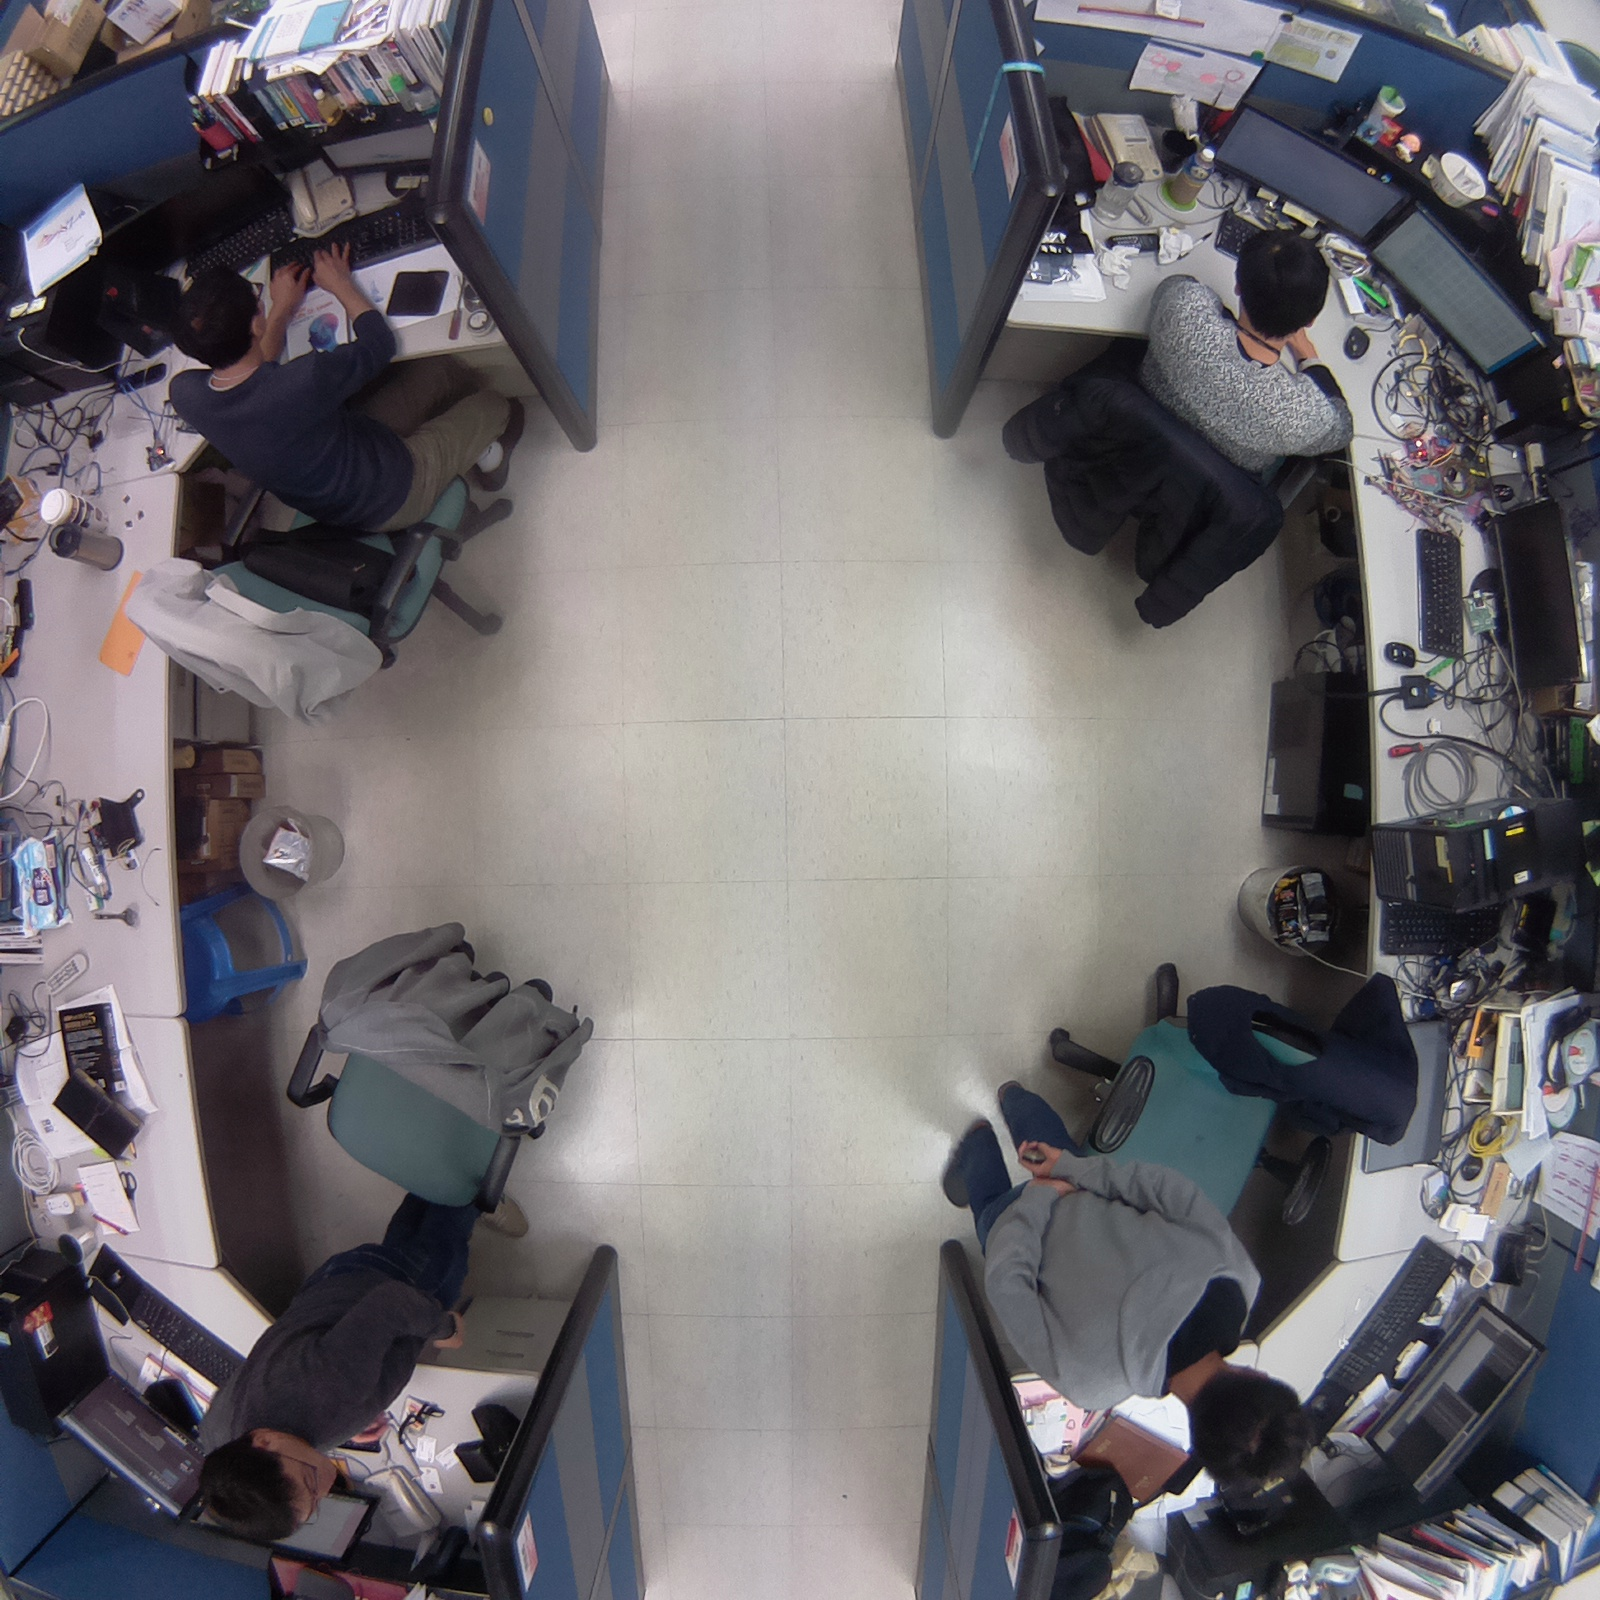chair: (273, 899, 632, 1232), (1037, 960, 1453, 1219)
head: (1178, 1359, 1312, 1493), (191, 1425, 323, 1551), (1227, 214, 1334, 331), (166, 270, 270, 372)
sitting: (112, 252, 540, 742), (978, 211, 1356, 652)
standing: (935, 1081, 1314, 1494), (176, 1174, 533, 1547)
